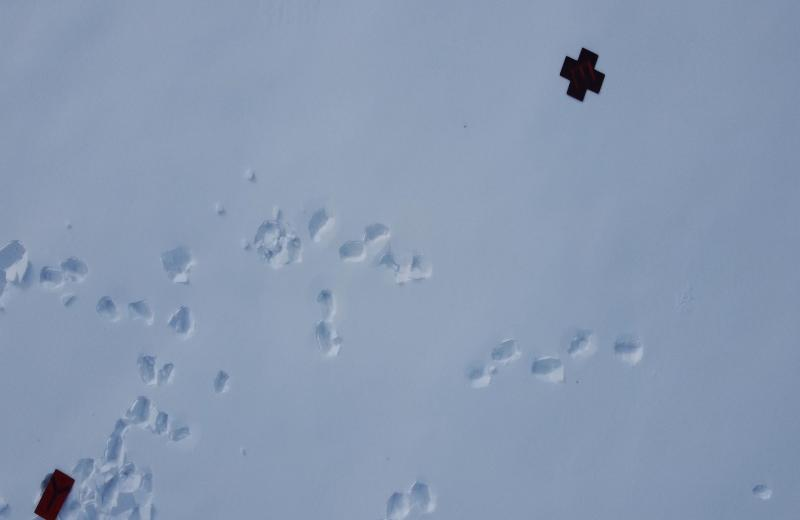Cross: (560, 45, 606, 102)
Rectangle: (34, 466, 77, 520)
